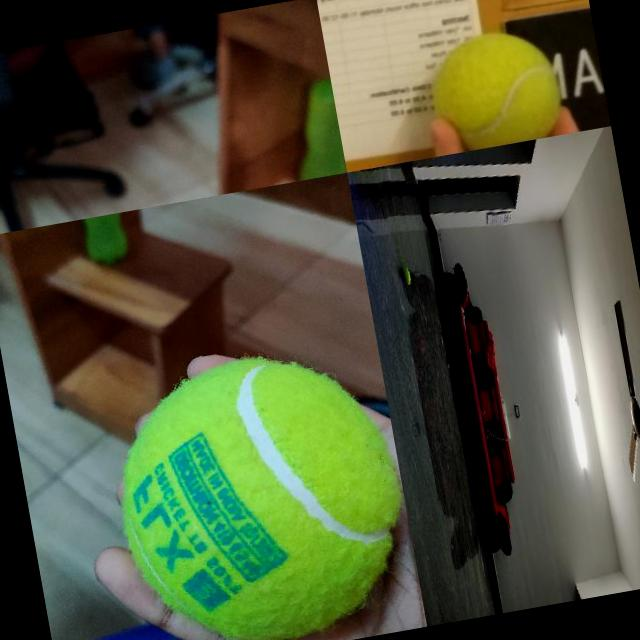Tennis Ball: (100, 336, 421, 640), (422, 20, 568, 154), (402, 266, 411, 286)
